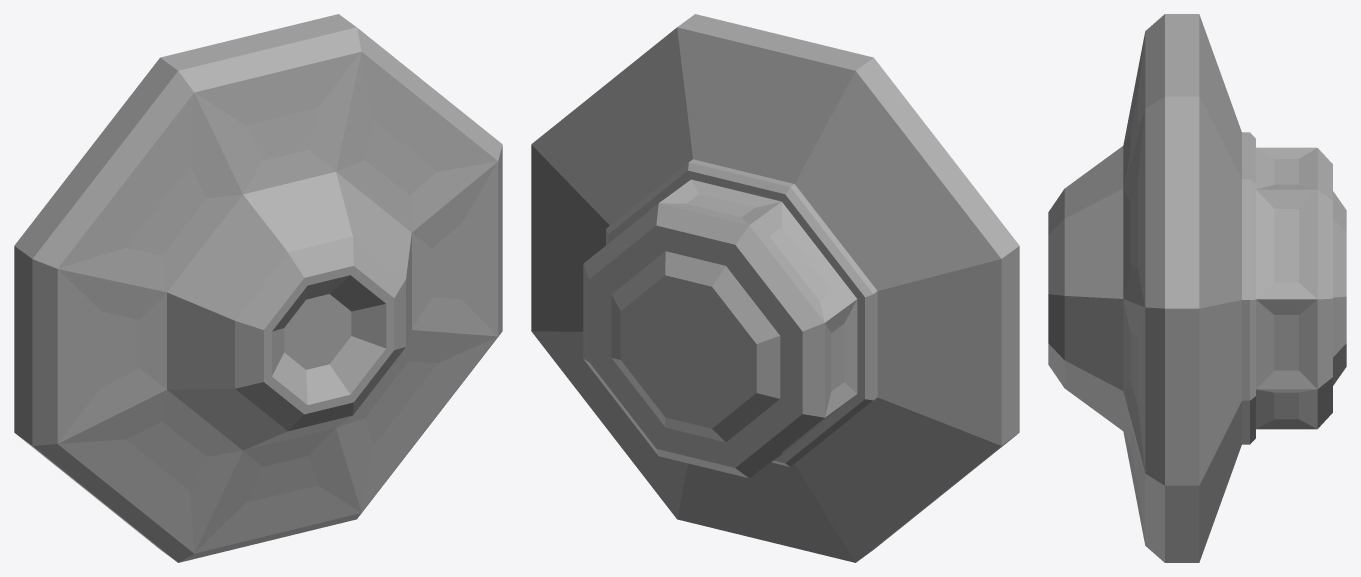
Rendered from outputWirelessEssentiaInterface.obj.
The picture shows the model from 3 angles, left to right: view 1: azimuth 30°, elevation 25°; view 2: azimuth 150°, elevation 25°; view 3: azimuth 270°, elevation 25°; orthographic projection. The views are drawn at different scales.
Visible parts, largest first — view 1: Output; view 2: Output; view 3: Output.
Part boxes in pixels (x1,y1,x2,y2): Output: (14, 14, 502, 562); Output: (531, 14, 1019, 562); Output: (1048, 14, 1346, 562).
Bounding box in the file's own units: 0.9527 × 0.9527 × 0.5524.
